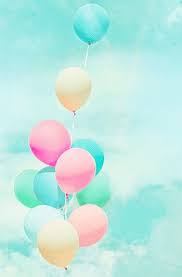Balloon: (29, 120, 71, 166), (38, 220, 78, 267), (56, 148, 95, 193), (55, 67, 93, 110), (69, 205, 109, 245), (73, 3, 110, 43), (35, 167, 70, 208), (15, 168, 47, 207), (77, 176, 110, 208)
